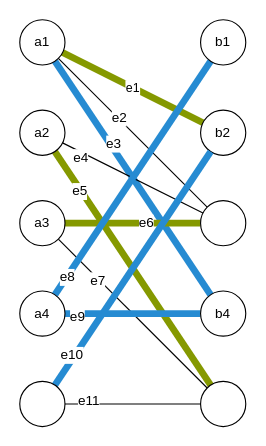
Some shapes in this 266 by 446 pixel diagram are drawn without their labels. The centre of each missing label's shape, as x and y in pixels:
a5: pixel 42 403
b3: pixel 222 222
b5: pixel 222 403
